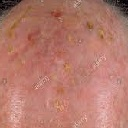Actinic: (84, 16, 113, 43), (48, 6, 67, 24), (26, 29, 47, 45)
